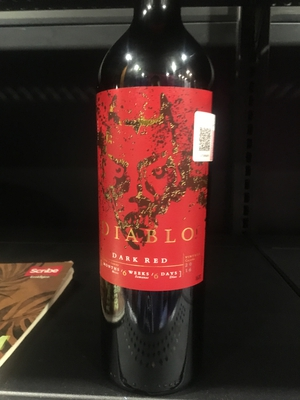diablo dark red: (84, 22, 219, 400)
